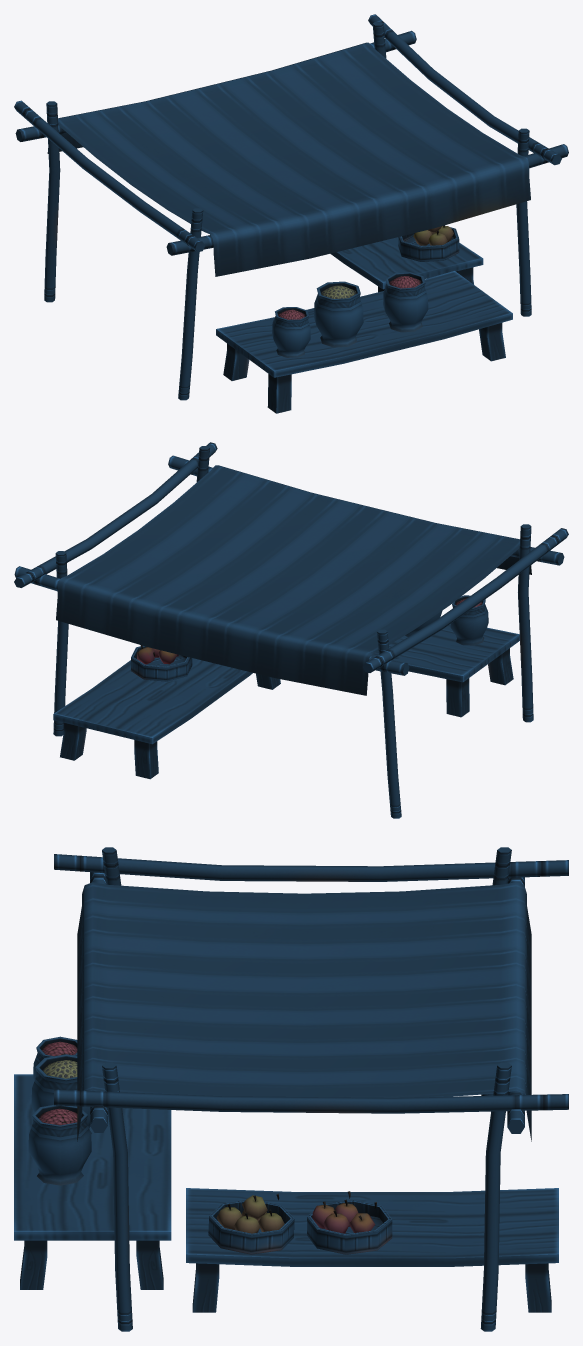
File: Market3.FBX
The picture shows the model from 3 angles, top to bottom: view 1: azimuth 30°, elevation 25°; view 2: azimuth 150°, elevation 25°; view 3: azimuth 270°, elevation 25°; orthographic projection. The views are drawn at different scales.
Parts seen in each view (by area): view 1: MarketStall2; view 2: MarketStall2; view 3: MarketStall2.
Boxes of the visible parts, bbox=[...] form: MarketStall2: bbox=[14, 14, 568, 413]; MarketStall2: bbox=[14, 442, 568, 818]; MarketStall2: bbox=[14, 847, 568, 1331].
Size of the model in its own units: 171 by 78.46 by 153.
